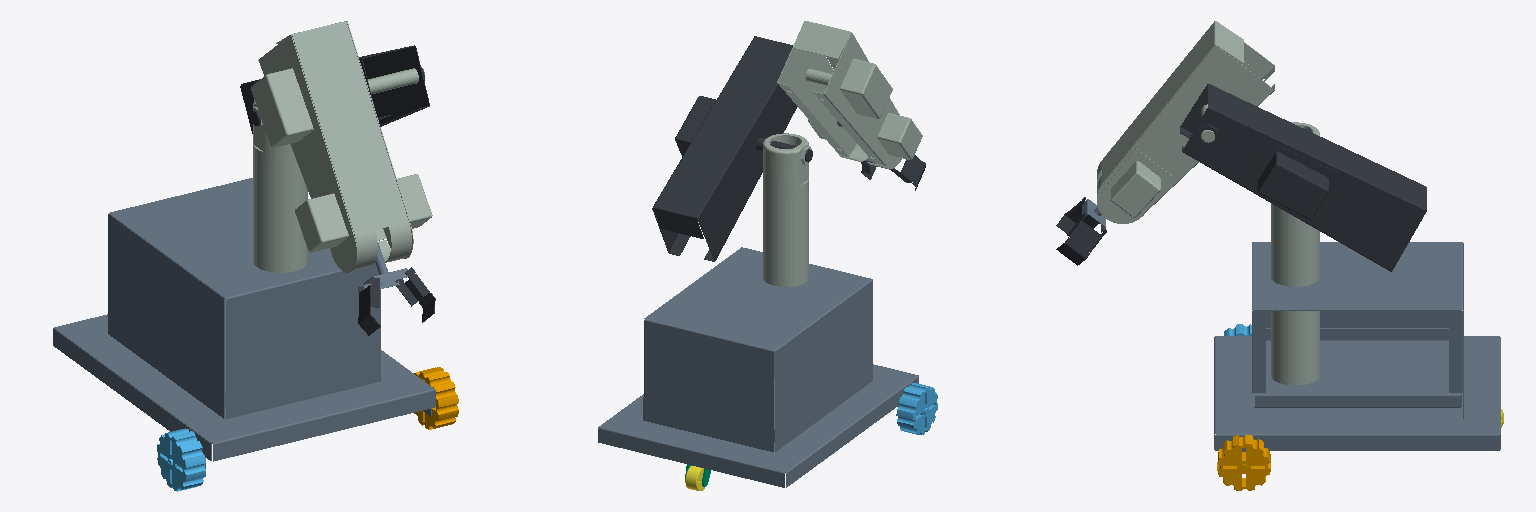
The robot description file, URDF, robot "mveable-robot":
<?xml version="1.0" ?>
<robot name="mveable-robot">

<link name="base_link">
  <inertial>
    <origin xyz="0.011355488307203586 0.0009044426549021452 0.12892060883395973" rpy="0 0 0"/>
    <mass value="5.534324081178064"/>
    <inertia ixx="0.064462" iyy="0.044707" izz="0.077649" ixy="2e-05" iyz="-0.000442" ixz="-0.001255"/>
  </inertial>
  <visual>
    <origin xyz="0 0 0" rpy="0 0 0"/>

    <geometry>
      <mesh filename="meshe/tt/base_link.stl" scale="0.001 0.001 0.001"/>
    </geometry>
      <material name="iron">
      <color rgba="0.4392 0.5020 0.5647 1"/>
    </material>
  </visual>

    <collision>
    <origin xyz="0 0 0.162" rpy="0 0 0"/>
    <geometry>
      <box size="0.23 0.3 0.17"/>
    </geometry>
  </collision>

      <collision>
    <origin xyz="0 0 0.064" rpy="0 0 0"/>
    <geometry>
      <box size="0.332 0.4064 0.025"/>
    </geometry>
  </collision>
</link>

<link name="g-rotater_1">
  <!-- <inertial>
    <origin xyz="-0.0402096855740077 -0.00941384742997664 -0.01124271336042676" rpy="0 0 0"/>
    <mass value="0.07884148908104233"/>
    <inertia ixx="6.2e-05" iyy="0.000102" izz="9.2e-05" ixy="-0.0" iyz="-2.8e-05" ixz="-0.0"/>
  </inertial> -->
  <inertial>
  <origin xyz="-0.0402096855740077 -0.00941384742997664 -0.01124271336042676" rpy="0 0 0"/>
  <mass value="0.05"/>
  <inertia ixx="3.9319399419428326e-05" iyy="6.468675388357563e-05" izz="5.8344915267538804e-05"
           ixy="-0.0" iyz="-1.7757148124903114e-05" ixz="-0.0"/>
</inertial>

  <visual>
    <origin xyz="-0.034482 0.308496 -0.414926" rpy="0 0 0"/>
    <geometry>
      <mesh filename="meshe/g-rotater_1.stl" scale="0.001 0.001 0.001"/>
    </geometry>
      <material name="iron">
      <color rgba="0.4392 0.5020 0.5647 1.0"/>
    </material>
  </visual>
  <!-- <collision>
    <origin xyz="-0.034482 0.308496 -0.414926" rpy="0 0 0"/>
    <geometry>
      <mesh filename="meshe/g-rotater_1.stl" scale="0.001 0.001 0.001"/>
    </geometry>
  </collision> -->
</link>

<link name="gripper2_1">
  <!-- <inertial>
    <origin xyz="0.016156122701246386 -0.029381873744162013 -0.009347336727492439" rpy="0 0 0"/>
    <mass value="0.02677908900914269"/>
    <inertia ixx="1.3e-05" iyy="8e-06" izz="8e-06" ixy="1e-06" iyz="-1e-06" ixz="2e-06"/>
  </inertial> -->
  <inertial>
  <origin xyz="0.016156122701246386 -0.029381873744162013 -0.009347336727492439" rpy="0 0 0"/>
  <mass value="0.015"/>
  <inertia ixx="7.281801107327615e-06" iyy="4.4811083737400704e-06" izz="4.4811083737400704e-06"
           ixy="5.601385467175088e-07" iyz="-5.601385467175088e-07" ixz="1.1202770934350176e-06"/>
</inertial>

  <visual>
    <origin xyz="-0.015782 0.36092 -0.326708" rpy="0 0 0"/>
    <geometry>
      <mesh filename="meshe/gripper2_1.stl" scale="0.001 0.001 0.001"/>
    </geometry>
    <material name="iron">
      <color rgba="0.25 0.27 0.30 1.0"/>
    </material>
  </visual>
  <collision>
    <origin xyz="-0.015782 0.36092 -0.326708" rpy="0 0 0"/>
    <geometry>
      <mesh filename="meshe/gripper2_1.stl" scale="0.001 0.001 0.001"/>
    </geometry>
  </collision>
</link>

<link name="gripper1_1">
  <!-- <inertial>
    <origin xyz="-0.016157120374269147 -0.02938187374415746 -0.009347336727495437" rpy="0 0 0"/>
    <mass value="0.02677908900914269"/>
    <inertia ixx="1.3e-05" iyy="8e-06" izz="8e-06" ixy="-1e-06" iyz="-1e-06" ixz="-2e-06"/>
  </inertial> -->
  <inertial>
  <origin xyz="-0.016157120374269147 -0.02938187374415746 -0.009347336727495437" rpy="0 0 0"/>
  <mass value="0.015"/>
  <inertia ixx="7.281801107327615e-06" iyy="4.4811083737400704e-06" izz="4.4811083737400704e-06"
           ixy="-5.601385467175088e-07" iyz="-5.601385467175088e-07" ixz="-1.1202770934350176e-06"/>
</inertial>

  <visual>
    <origin xyz="0.028218 0.36092 -0.326708" rpy="0 0 0"/>
    <geometry>
      <mesh filename="meshe/gripper1_1.stl" scale="0.001 0.001 0.001"/>
    </geometry>
    <material name="iron">
      <color rgba="0.25 0.27 0.30 1.0"/>
    </material>
  </visual>
  <collision>
    <origin xyz="0.028218 0.36092 -0.326708" rpy="0 0 0"/>
    <geometry>
      <mesh filename="meshe/gripper1_1.stl" scale="0.001 0.001 0.001"/>
    </geometry>
  </collision>
</link>

<link name="g-base_1">
  <!-- <inertial>
    <origin xyz="-4.988364919042074e-07 -0.001857462218262551 -0.0022143417479583705" rpy="0 0 0"/>
    <mass value="0.0205847145536056"/>
    <inertia ixx="4e-06" iyy="6e-06" izz="7e-06" ixy="-0.0" iyz="2e-06" ixz="-0.0"/>
  </inertial> -->
  <inertial>
  <origin xyz="-4.988364919042074e-07 -0.001857462218262551 -0.0022143417479583705" rpy="0 0 0"/>
  <mass value="0.015"/>
  <inertia ixx="2.9147841639363634e-06" iyy="4.372176245904545e-06" izz="5.100872286888636e-06"
           ixy="-0.0" iyz="1.4573920819681817e-06" ixz="-0.0"/>
</inertial>

  <visual>
    <origin xyz="0.006218 0.368739 -0.343059" rpy="0 0 0"/>
    <geometry>
      <mesh filename="meshe/g-base_1.stl" scale="0.001 0.001 0.001"/>
    </geometry>
     <material name="iron">
      <color rgba="0.4392 0.5020 0.5647 1.0"/>
    </material>
  </visual>
  <collision>
    <origin xyz="0.006218 0.368739 -0.343059" rpy="0 0 0"/>
    <geometry>
      <mesh filename="meshe/g-base_1.stl" scale="0.001 0.001 0.001"/>
    </geometry>
  </collision>
</link>

<link name="arm2_1">
  <!-- <inertial>
    <origin xyz="-0.05210636298215546 -0.033197513382281635 -0.03583751076148772" rpy="0 0 0"/>
    <mass value="1.6443442355078592"/>
    <inertia ixx="0.012048" iyy="0.012118" izz="0.010104" ixy="-0.000255" iyz="-0.004886" ixz="-0.000271"/>
  </inertial> -->
  <inertial>
  <origin xyz="-0.05210636298215546 -0.033197513382281635 -0.03583751076148772" rpy="0 0 0"/>
  <mass value="1.0"/>
  <inertia ixx="0.0073269329741524275" iyy="0.007369503135854841" izz="0.006144698769159706"
           ixy="-0.00015507701763021824" iyz="-0.0029713972868284162" ixz="-0.00016480734030505543"/>
</inertial>

  <visual>
    <origin xyz="-0.051025 0.211604 -0.529812" rpy="0 0 0"/>
    <geometry>
      <mesh filename="meshe/arm2_1.stl" scale="0.001 0.001 0.001"/>
    </geometry>
     <material name="iron-grey">
    <color rgba="0.650 0.710 0.675 1.0"/>
    </material>
  </visual>
   <!-- <collision>
    <origin xyz="-0.051025 0.211604 -0.529812" rpy="0 0 0"/>
    <geometry>
      <mesh filename="meshe/arm2_1.stl" scale="0.001 0.001 0.001"/>
    </geometry>
  </collision> -->
  <collision>
    <origin xyz="-0.057 -0.018 -0.015" rpy="0.95 0 0"/>
    <geometry>
      <box size="0.081 0.22 0.089"/>
    </geometry>
  </collision>

   <collision>

    <origin xyz="-0.058 -0.12 -0.145 " rpy="0 1.5708  0"/>
    <geometry>
      <cylinder radius="0.039" length="0.081"/>
    </geometry>
  </collision>
</link>

<link name="rpd-link_1">
  <!-- <inertial>
    <origin xyz="-1.739580926741254e-05 2.1838972906196297e-05 0.1835475963665854" rpy="0 0 0"/>
    <mass value="5.729762781270824"/>
    <inertia ixx="0.07381" iyy="0.073767" izz="0.005196" ixy="-1e-06" iyz="-2.3e-05" ixz="2e-05"/>
  </inertial> -->
  <inertial>
  <origin xyz="-1.739580926741254e-05 2.1838972906196297e-05 0.1835475963665854" rpy="0 0 0"/>
  <mass value="2.5"/>
  <inertia ixx="0.03220464913541736" iyy="0.03218588745118998" izz="0.0022671095638481043"
          ixy="-4.3631823784605546e-07" iyz="-1.0035319470459277e-05" ixz="8.726364756921112e-06"/>
</inertial>

  <visual>
    <origin xyz="-0.003 0.088 -0.0942" rpy="0 0 0"/>
    <geometry>
      <mesh filename="meshe/rpd-link_1.stl" scale="0.001 0.001 0.001"/>
    </geometry>
    <material name="iron-grey">
    <color rgba="0.650 0.710 0.675 1.0"/>
    </material>
  </visual>
   <collision>
    <origin xyz="0 0 .267" rpy="0 0 1.5708 "/>
    <geometry>
      <cylinder radius="0.035" length="0.215"/>
    </geometry>
  </collision>
</link>

<link name="arm1_1">
  <!-- <inertial>
    <origin xyz="0.05049635554771116 0.013179852952040147 -0.0044920256989148255" rpy="0 0 0"/>
    <mass value="1.527432607495631"/>
    <inertia ixx="0.011163" iyy="0.006969" izz="0.011633" ixy="2.1e-05" iyz="0.00373" ixz="-1.7e-05"/>
  </inertial> -->
  <inertial>
  <origin xyz="0.05049635554771116 0.013179852952040147 -0.0044920256989148255" rpy="0 0 0"/>
  <mass value="1.0"/>
  <inertia ixx="0.007308342080180405" iyy="0.004562558089830444" izz="0.007616047963696018"
           ixy="1.3748560752825272e-05" iyz="0.002442006267049441" ixz="-1.112978727609665e-05"/>
</inertial>

  <visual>
    <origin xyz="-0.038025 0.090772 -0.4592" rpy="0 0 0"/>
    <geometry>
      <mesh filename="meshe/arm1_1.stl" scale="0.001 0.001 0.001"/>
    </geometry>
     <material name="iron">
      <color rgba="0.25 0.27 0.30 1.0"/>
    </material>
  </visual>
  <!-- <collision>
    <origin xyz="-0.038025 0.090772 -0.4592" rpy="0 0 0"/>
    <geometry>
      <mesh filename="meshe/arm1_1.stl" scale="0.001 0.001 0.001"/>
    </geometry>
  </collision> -->
     <collision>
    <origin xyz="0.05 0.02 -0.007" rpy="-0.47 0 0"/>
    <geometry>
      <box size="0.08 .35 0.081"/>
    </geometry>
  </collision>
</link>

<link name="b-tyre1_1">
  <inertial>
    <origin xyz="0.019891554420791463 8.962515745755684e-05 1.5912887308865142e-05" rpy="0 0 0"/>
    <mass value="0.874319332902454"/>
    <inertia ixx="0.000592" iyy="0.000363" izz="0.000365" ixy="-0.0" iyz="0.0" ixz="-0.0"/>
  </inertial>
  <visual>
    <origin xyz="-0.1666 0.160793 -0.0422" rpy="0 0 0"/>
    <geometry>
      <mesh filename="meshe/tt/b-tyre1_1.stl" scale="0.001 0.001 0.001"/>
    </geometry>
    <material name="silver"/>
  </visual>
  <collision>
    <origin xyz="-0.1666 0.160793 -0.0422" rpy="0 0 0"/>
    <geometry>
      <mesh filename="meshe/tt/b-tyre1_1.stl" scale="0.001 0.001 0.001"/>
    </geometry>
  </collision>
</link>

<link name="b-tyre2_1">
  <inertial>
    <origin xyz="-0.019891915572050056 -1.0590898605417065e-05 7.175178885707179e-05" rpy="0 0 0"/>
    <mass value="0.8772731128882164"/>
    <inertia ixx="0.000595" iyy="0.000365" izz="0.000367" ixy="-0.0" iyz="-1e-06" ixz="0.0"/>
  </inertial>
  <visual>
    <origin xyz="0.1651 0.160793 -0.0422" rpy="0 0 0"/>
    <geometry>
      <mesh filename="meshe/tt/b-tyre2_1.stl" scale="0.001 0.001 0.001"/>
    </geometry>
    <material name="silver"/>
  </visual>
  <collision>
    <origin xyz="0.1651 0.160793 -0.0422" rpy="0 0 0"/>
    <geometry>
      <mesh filename="meshe/tt/b-tyre2_1.stl" scale="0.001 0.001 0.001"/>
    </geometry>
  </collision>
</link>

<link name="f-wheel-rotater_1">
  <inertial>
    <origin xyz="1.1596227827330677e-17 0.008781298772219504 -0.023541350712176598" rpy="0 0 0"/>
    <mass value="0.08417462107375022"/>
    <inertia ixx="4.1e-05" iyy="4.5e-05" izz="2.3e-05" ixy="-0.0" iyz="1.3e-05" ixz="-0.0"/>
  </inertial>
  <visual>
    <origin xyz="-0.0 -0.1662 -0.07597" rpy="0 0 0"/>
    <geometry>
      <mesh filename="meshe/tt/f-wheel-rotater_1.stl" scale="0.001 0.001 0.001"/>
    </geometry>
    <material name="silver"/>
  </visual>
  <collision>
    <origin xyz="-0.0 -0.1662 -0.07597" rpy="0 0 0"/>
    <geometry>
      <mesh filename="meshe/tt/f-wheel-rotater_1.stl" scale="0.001 0.001 0.001"/>
    </geometry>
  </collision>
</link>

<link name="f-wheel_1">
  <inertial>
    <origin xyz="-0.0009999999999999987 -4.4878256444391695e-08 -1.0838372940556035e-05" rpy="0 0 0"/>
    <mass value="0.1599937961847884"/>
    <inertia ixx="3.1e-05" iyy="2.1e-05" izz="2.1e-05" ixy="0.0" iyz="0.0" ixz="0.0"/>
  </inertial>
  <visual>
    <origin xyz="-0.0 -0.188098 -0.02482" rpy="0 0 0"/>
    <geometry>
      <mesh filename="meshe/tt/f-wheel_1.stl" scale="0.001 0.001 0.001"/>
    </geometry>
    <material name="silver"/>
  </visual>
  <collision>
    <origin xyz="-0.0 -0.188098 -0.02482" rpy="0 0 0"/>
    <geometry>
      <mesh filename="meshe/tt/f-wheel_1.stl" scale="0.001 0.001 0.001"/>
    </geometry>
  </collision>
</link>








<joint name="arm2-to-g-rotater" type="revolute">
  <origin xyz="-0.016543 -0.096892 -0.114886" rpy="0 0 0"/>
  <parent link="arm2_1"/>
  <child link="g-rotater_1"/>
  <axis xyz="1.0 -0.0 0.0"/>
  <limit upper="0.523599" lower="-0.523599" effort="100" velocity="100"/>
</joint>

<joint name="g-base-to-gripper1" type="revolute">
  <origin xyz="0.022 0.007819 -0.016351" rpy="0 0 0"/>
  <parent link="g-base_1"/>
  <child link="gripper2_1"/>
  <axis xyz="0.0 0.766044 -0.642788"/>
  <limit upper="0.637045" lower="0.0" effort="100" velocity="100"/>
</joint>

<joint name="g-base-togriper2" type="revolute">
  <origin xyz="-0.022 0.007819 -0.016351" rpy="0 0 0"/>
  <parent link="g-base_1"/>
  <child link="gripper1_1"/>
  <axis xyz="0.0 0.766044 -0.642788"/>
  <limit upper="0.0" lower="-0.637045" effort="100" velocity="100"/>
</joint>

<joint name="g-rotater-to-g-base" type="revolute">
  <origin xyz="-0.0407 -0.060243 -0.071867" rpy="0 0 0"/>
  <parent link="g-rotater_1"/>
  <child link="g-base_1"/>
  <axis xyz="0.0 0.642788 0.766044"/>
  <limit upper="1.570796" lower="-1.570796" effort="100" velocity="100"/>
</joint>

<joint name="arm1-to-arm2" type="revolute">
  <origin xyz="0.013 -0.120832 0.070612" rpy="0 0 0"/>
  <parent link="arm1_1"/>
  <child link="arm2_1"/>
  <axis xyz="-1.0 0.0 -0.0"/>
  <limit upper="3.839724" lower="-1.047198" effort="100" velocity="100"/>
    <!-- <limit upper="-1.047198" lower="3.839724" effort="100" velocity="100"/> -->

</joint>

<joint name="base-to-rod" type="revolute">
  <origin xyz="0.003 -0.088 0.0942" rpy="0 0 0"/>
  <parent link="base_link"/>
  <child link="rpd-link_1"/>
  <axis xyz="0.0 0.0 -1.0"/>
  <limit upper="2.094395" lower="-2.094395" effort="100" velocity="100"/>
</joint>

<joint name="rod-to-arm1" type="revolute">
  <origin xyz="0.035025 -0.002772 0.365" rpy="0 0 0"/>
  <parent link="rpd-link_1"/>
  <child link="arm1_1"/>
  <axis xyz="1.0 -0.0 -0.0"/>
  <!-- <limit upper="0.523599" lower="-3.316126" effort="100" velocity="100"/> -->
    <limit upper="1.308997" lower="-2.879793" effort="100" velocity="100"/>

</joint>

<joint name="base-t-t1" type="continuous">
  <origin xyz="0.1666 -0.160793 0.0422" rpy="0 0 0"/>
  <parent link="base_link"/>
  <child link="b-tyre1_1"/>
  <axis xyz="1.0 0.0 0.0"/>
</joint>

<joint name="base-to-t2" type="continuous">
  <origin xyz="-0.1651 -0.160793 0.0422" rpy="0 0 0"/>
  <parent link="base_link"/>
  <child link="b-tyre2_1"/>
  <axis xyz="1.0 0.0 -0.0"/>
</joint>


<joint name="base-to-f-rotater" type="continuous">
  <origin xyz="0.0 0.1662 0.07597" rpy="0 0 0"/>
  <parent link="base_link"/>
  <child link="f-wheel-rotater_1"/>
  <axis xyz="0.0 0.0 -1.0"/>
  <dynamics damping="0.0" friction="0.0"/>
</joint>

<joint name="f-wheel-r-to-f-wheel" type="continuous">
  <origin xyz="0.0 0.021898 -0.05115" rpy="0 0 0"/>
  <parent link="f-wheel-rotater_1"/>
  <child link="f-wheel_1"/>
  <axis xyz="1.0 0.0 0.0"/>
  <dynamics damping="0.0" friction="0.0"/>
</joint>

</robot>
<!-- <joint name="base-to-f-rotater" type="continuous">
  <origin xyz="0.0 0.18 0.07597" rpy="0 0 0"/>
  <parent link="base_link"/>
  <child link="f-wheel-r_1"/>
  <axis xyz="0.0 0.0 -1.0"/>
  <dynamics damping="0.0" friction="0.0"/>
</joint>

<joint name="f-rotater-to-f-wheels" type="continuous">
  <origin xyz="-0.005032 0.0 -0.05127" rpy="0 0 0"/>
  <parent link="f-wheel-r_1"/>
  <child link="f-wheel_1"/>
  <axis xyz="1.0 0.0 0.0"/>
  <dynamics damping="0.0" friction="0.0"/>
</joint> -->

--- What the picture shows (computed from the rendered views, not written in the file) ---
Views: 3 orthographic renders of the robot side by side, from view 1: azimuth 30°, elevation 25°; view 2: azimuth 150°, elevation 25°; view 3: azimuth 270°, elevation 25°.
Model mveable-robot with 12 links and 11 joints (7 revolute, 4 continuous), rooted at base_link, posed every joint at zero.
Visible links, largest first — view 1: base_link, arm2_1, rpd-link_1, arm1_1, b-tyre2_1, b-tyre1_1, gripper2_1, gripper1_1; view 2: base_link, arm1_1, arm2_1, rpd-link_1, b-tyre2_1, gripper1_1; view 3: base_link, arm1_1, arm2_1, rpd-link_1, b-tyre1_1, gripper2_1, gripper1_1.
Link boxes in pixels (x1,y1,x2,y2): base_link: [53, 178, 435, 468]; arm2_1: [251, 21, 432, 272]; rpd-link_1: [253, 100, 307, 272]; arm1_1: [240, 45, 429, 133]; b-tyre2_1: [157, 428, 205, 491]; b-tyre1_1: [414, 367, 458, 429]; gripper2_1: [395, 267, 435, 322]; gripper1_1: [358, 277, 380, 335]; base_link: [598, 247, 918, 487]; arm1_1: [652, 36, 812, 261]; arm2_1: [777, 21, 922, 168]; rpd-link_1: [763, 133, 811, 377]; b-tyre2_1: [896, 383, 937, 434]; gripper1_1: [891, 155, 925, 190]; base_link: [1214, 242, 1500, 451]; arm1_1: [1180, 84, 1426, 271]; arm2_1: [1097, 21, 1274, 223]; rpd-link_1: [1271, 122, 1319, 384]; b-tyre1_1: [1217, 435, 1270, 490]; gripper2_1: [1056, 213, 1106, 265]; gripper1_1: [1056, 197, 1099, 234].
Size in the robot's own frame: 0.4077 by 0.6343 by 0.6206 metres.
Meshes: 12 distinct files referenced, 12 mesh visuals loaded (12 binary STL).
